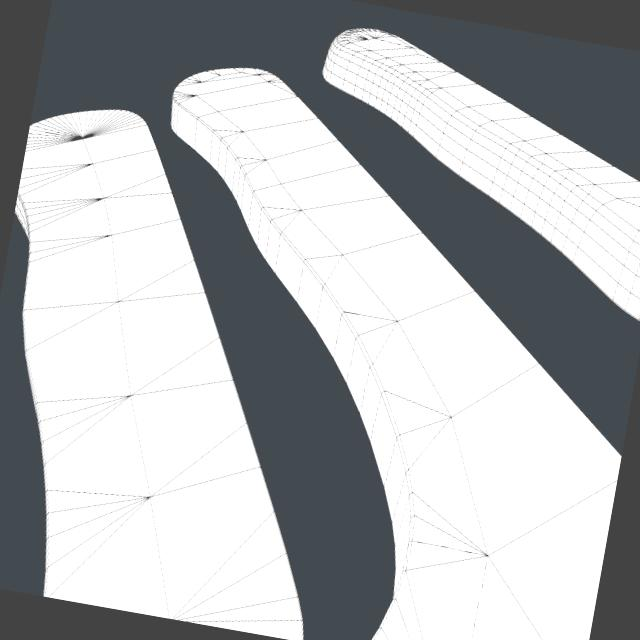cleaver: (287, 0, 640, 332)
